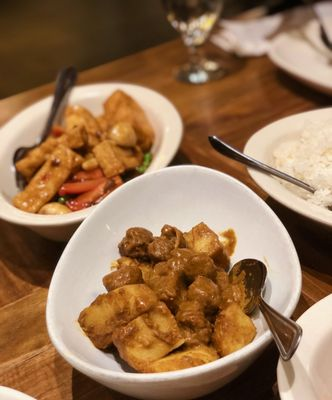burger: (207, 135, 316, 193)
salad: (227, 257, 304, 400), (13, 65, 76, 183), (208, 135, 317, 194), (258, 295, 305, 400)
sushi: (49, 164, 304, 398), (1, 77, 184, 242)
